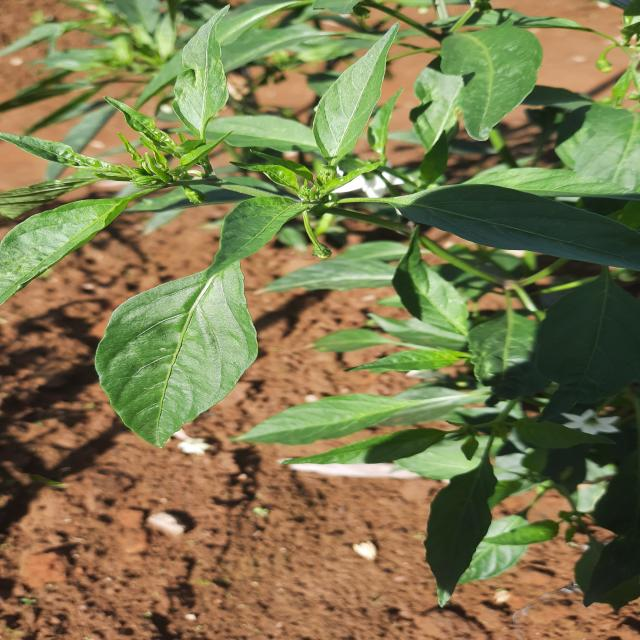sehat: (381, 178, 640, 288), (228, 376, 498, 445)
